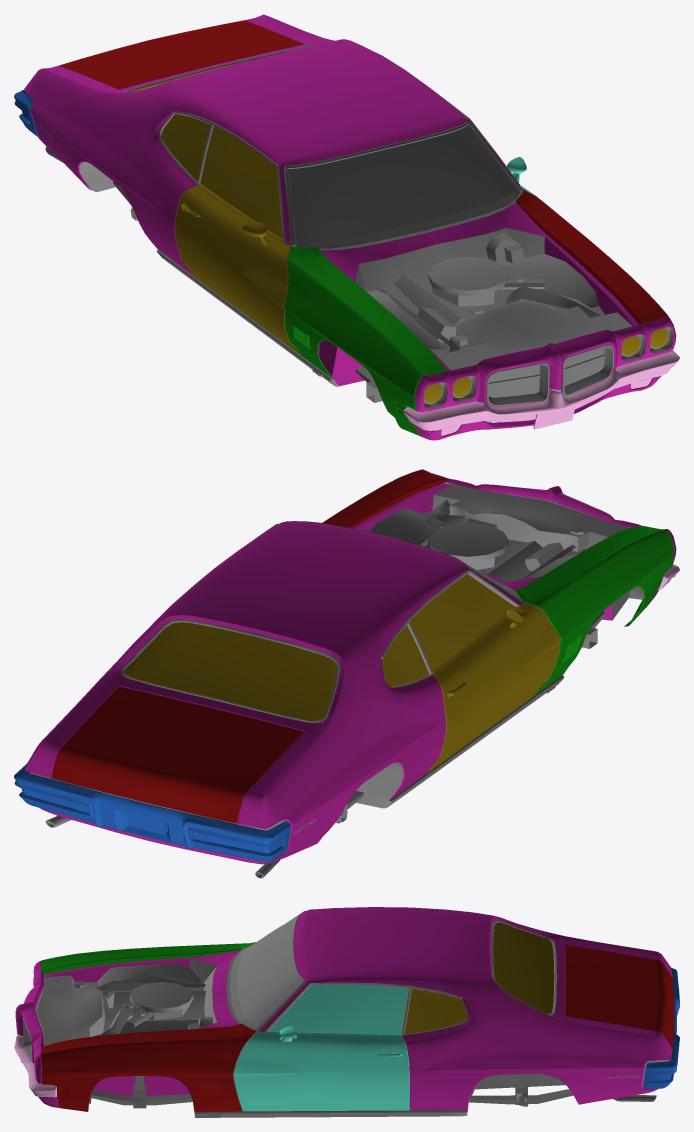
File: Cuerpo.obj
3 renders of one model, top to bottom at view 1: azimuth 30°, elevation 25°; view 2: azimuth 150°, elevation 25°; view 3: azimuth 270°, elevation 25°, orthographic. The views are drawn at different scales.
Visible parts, largest first — view 1: chassis, dvig, windscreen_ok, door_rf_ok, wing_rf_ok, chrom, boot_ok, bump_front_ok, wing_lf_ok, glas, dno; view 2: chassis, boot_ok, door_rf_ok, glas, dvig, wing_rf_ok, bump_rear_ok, chrom, dno, wing_lf_ok; view 3: chassis, door_lf_ok, wing_lf_ok, dvig, boot_ok, glas, chrom, windscreen_ok, dno, wing_rf_ok, bump_rear_ok, bump_front_ok.
Part boxes in pixels (x1=…): chassis: x1=24, y1=14, x2=676, y2=440; dvig: x1=35, y1=121, x2=632, y2=397; windscreen_ok: x1=288, y1=125, x2=517, y2=242; door_rf_ok: x1=175, y1=126, x2=300, y2=354; wing_rf_ok: x1=284, y1=246, x2=446, y2=436; chrom: x1=122, y1=44, x2=673, y2=408; boot_ok: x1=59, y1=20, x2=303, y2=89; bump_front_ok: x1=403, y1=350, x2=679, y2=430; wing_lf_ok: x1=516, y1=190, x2=667, y2=356; glas: x1=130, y1=60, x2=668, y2=403; dno: x1=79, y1=162, x2=522, y2=422; chassis: x1=24, y1=469, x2=676, y2=864; boot_ok: x1=51, y1=686, x2=303, y2=823; door_rf_ok: x1=409, y1=574, x2=560, y2=772; glas: x1=125, y1=622, x2=429, y2=720; dvig: x1=292, y1=484, x2=629, y2=835; wing_rf_ok: x1=516, y1=526, x2=674, y2=696; bump_rear_ok: x1=14, y1=764, x2=291, y2=862; chrom: x1=121, y1=521, x2=564, y2=808; dno: x1=29, y1=482, x2=643, y2=830; wing_lf_ok: x1=322, y1=469, x2=446, y2=528; chassis: x1=15, y1=907, x2=672, y2=1110; door_lf_ok: x1=233, y1=985, x2=409, y2=1111; wing_lf_ok: x1=41, y1=1023, x2=256, y2=1111; dvig: x1=36, y1=958, x2=638, y2=1116; boot_ok: x1=565, y1=945, x2=674, y2=1048; glas: x1=404, y1=922, x2=554, y2=1034; chrom: x1=22, y1=909, x2=618, y2=1117; windscreen_ok: x1=237, y1=916, x2=302, y2=1026; dno: x1=35, y1=946, x2=668, y2=1108; wing_rf_ok: x1=41, y1=942, x2=255, y2=974; bump_rear_ok: x1=643, y1=967, x2=679, y2=1089; bump_front_ok: x1=14, y1=1035, x2=56, y2=1097.
Bounding box in the file's own units: 18 × 11.18 × 47.2.
